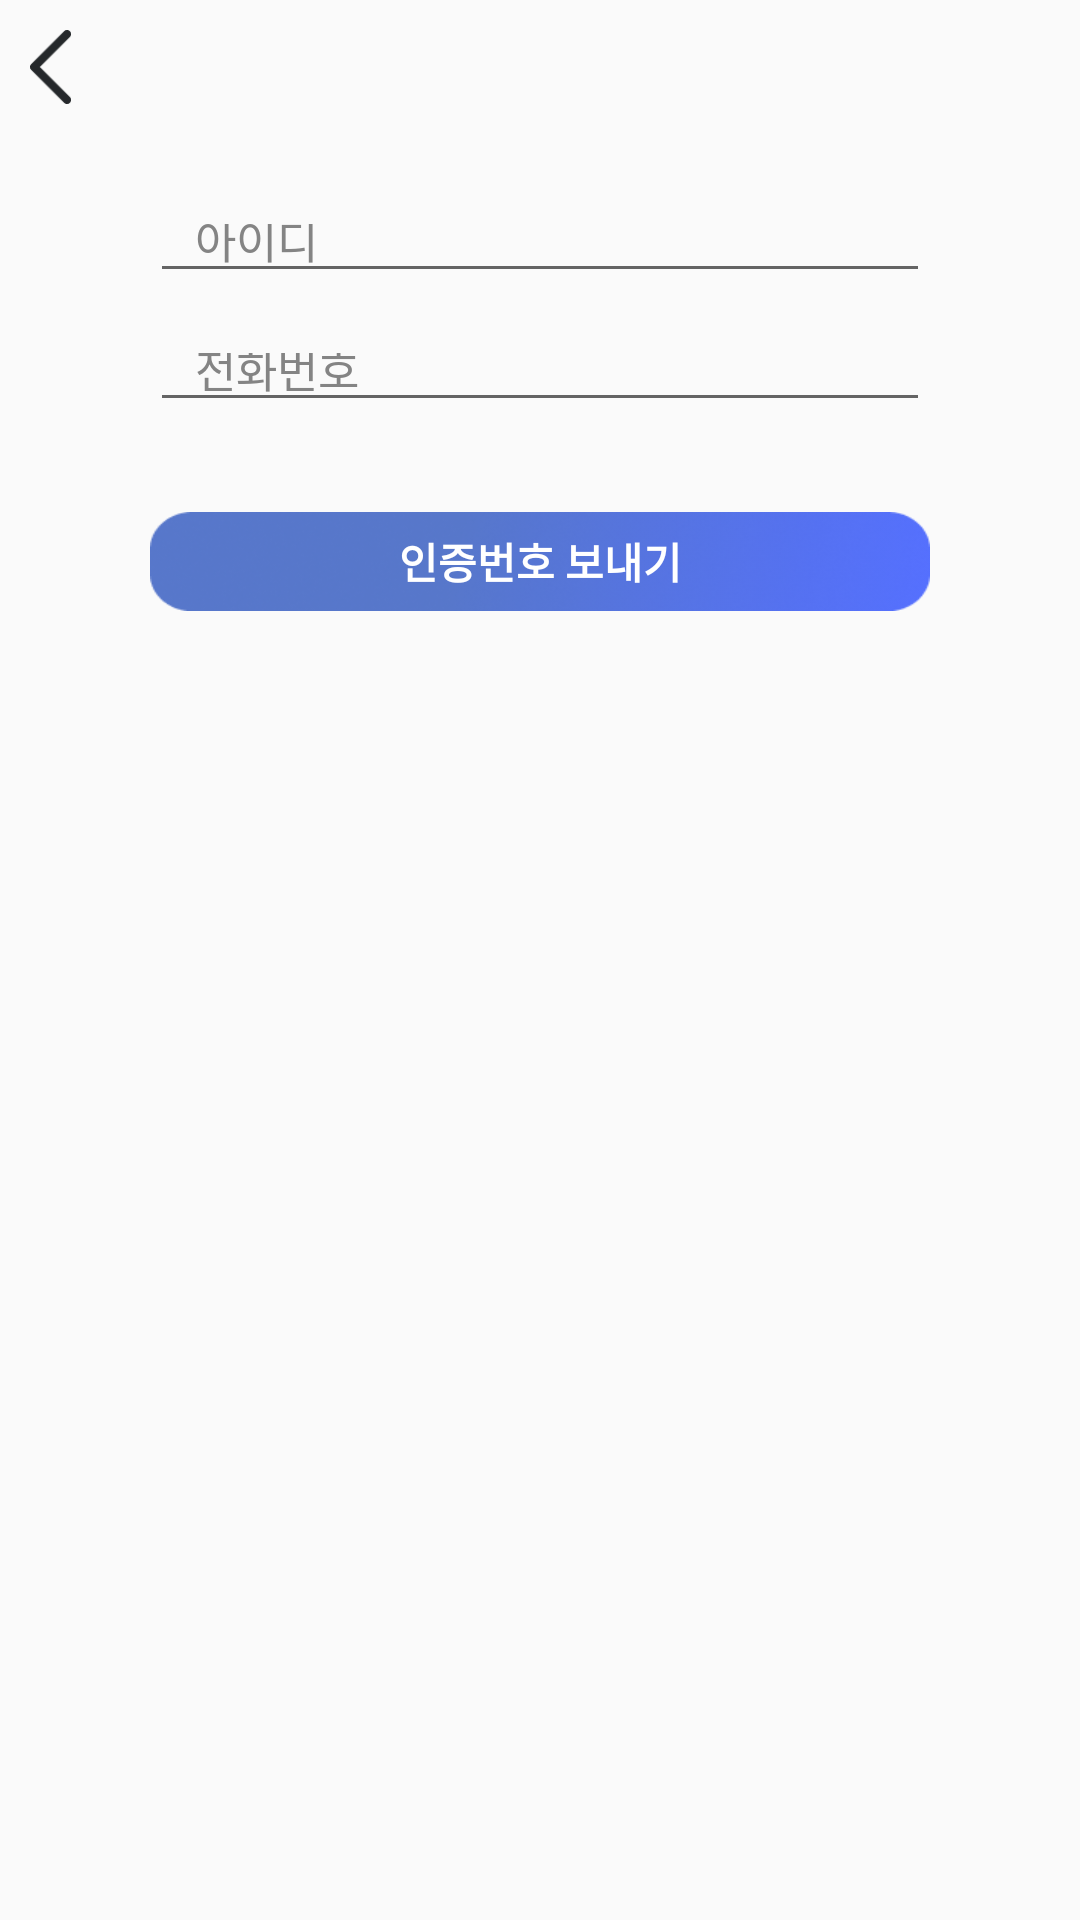

Locate icon controls on the screen. Image size 1080 × 1920, boxes as (x1, y1, x2, y2).
back arrow: (30, 30, 71, 104)
